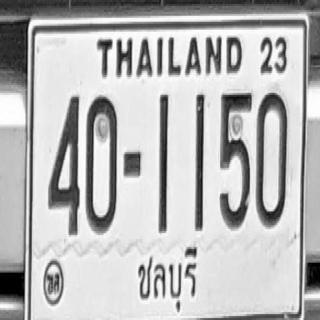N00: (85, 94, 117, 232), (256, 90, 288, 226)
N01: (194, 92, 205, 228), (158, 92, 168, 230)
N04: (48, 94, 80, 234)
N05: (219, 90, 252, 228)
P13: (133, 243, 199, 319)
